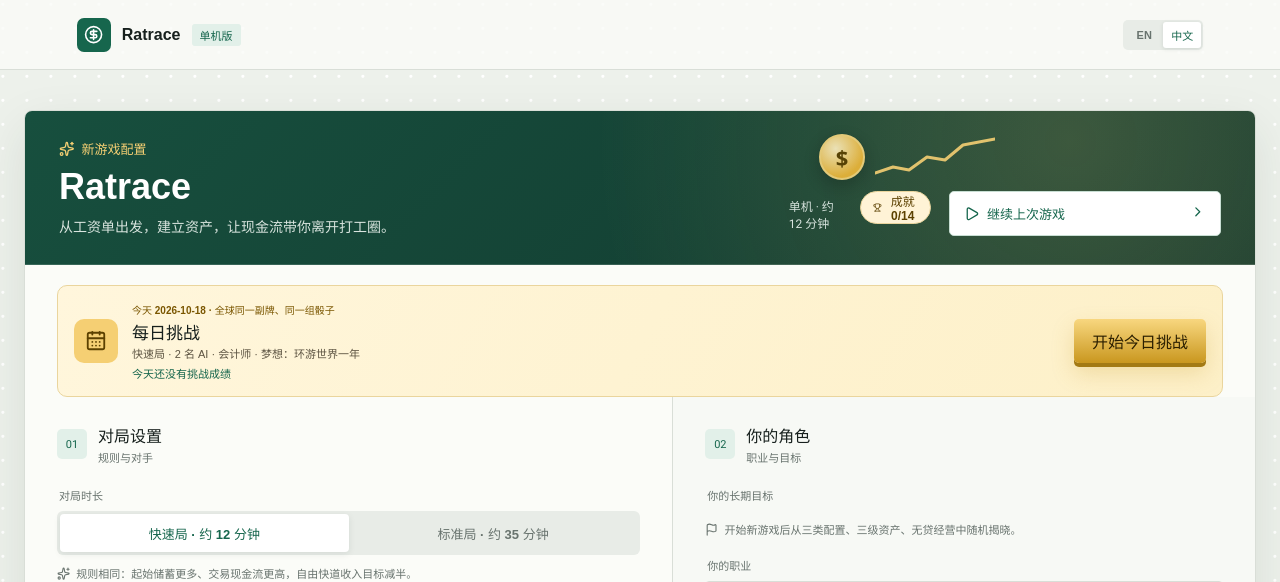
Test: cashflow app › merges duplicate assets and displays their quantity
The width and height of the screenshot is (1280, 582).
What coordinates should you click on to do the following:
click the button "继续上次游戏"
I would click on:
 (1026, 215)
Its box is [948,191,1221,236].
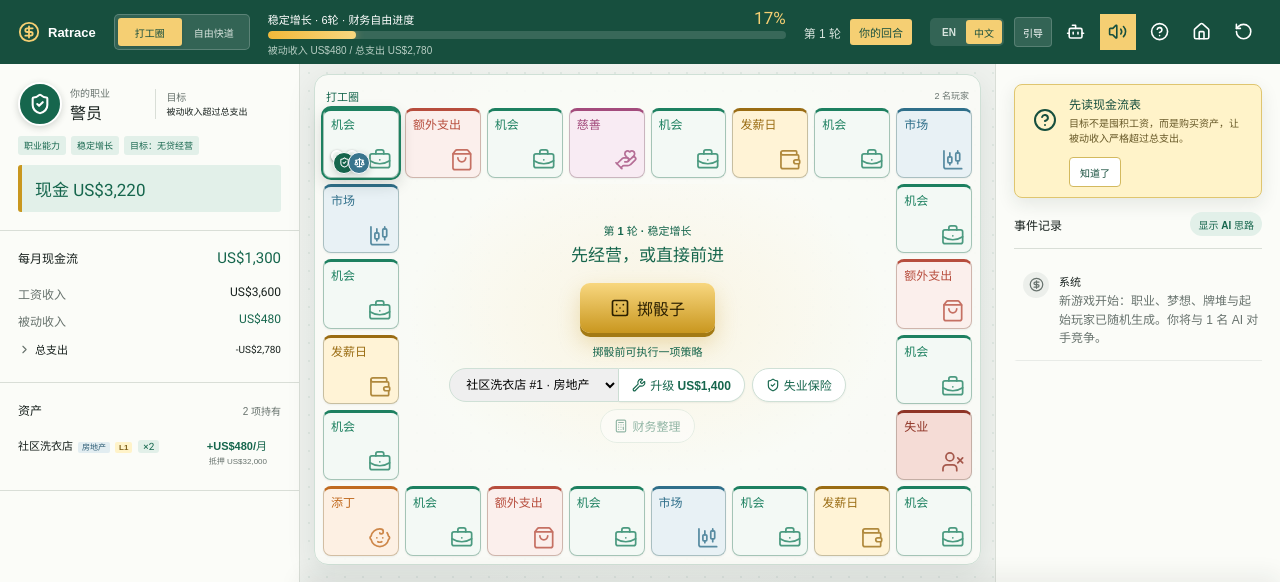
Check: the text "社区洗衣店" is shown, box [18,440,73,452]
Check: the text "×2" is shown, box [138,440,159,453]
Check: the text "+US$480/月" is shown, box [207,437,267,453]
